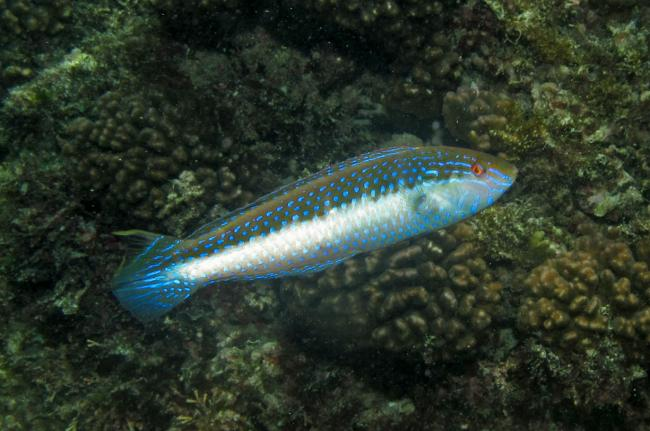fish: (111, 143, 519, 326)
